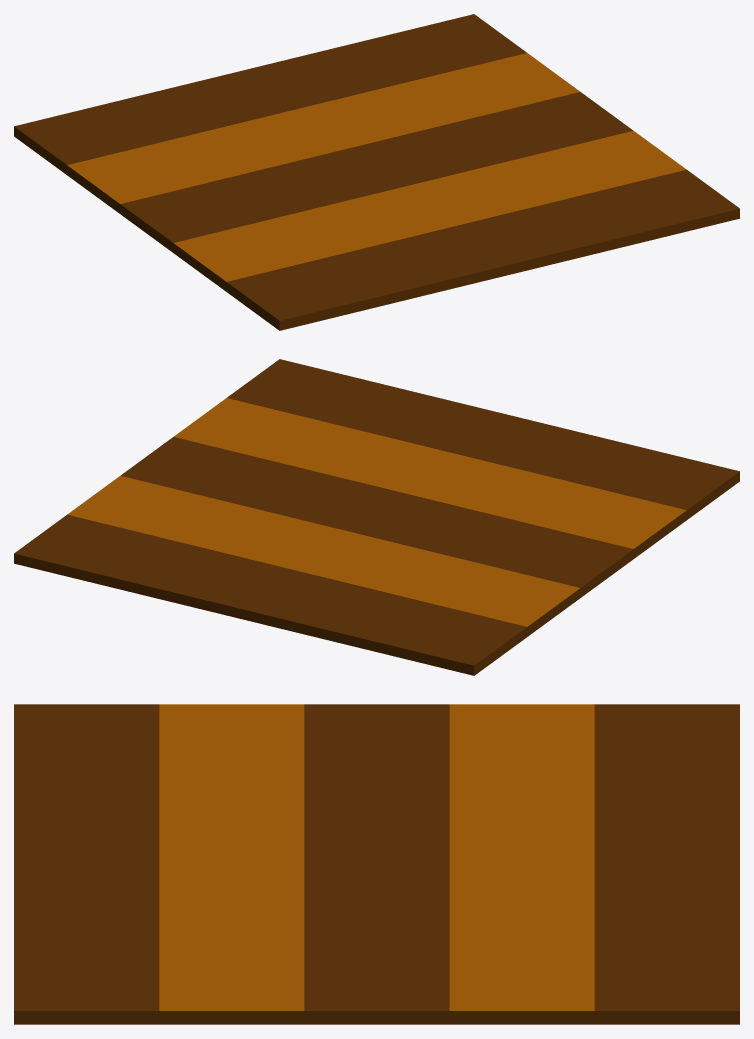
File: Suelo 1.fbx
3 views of the same model, one above another, from view 1: azimuth 30°, elevation 25°; view 2: azimuth 150°, elevation 25°; view 3: azimuth 270°, elevation 25° (orthographic). The views are drawn at different scales.
Parts seen in each view (by area): view 1: pCube4; view 2: pCube4; view 3: pCube4.
Boxes of the visible parts, box(x1,y1,x2,y2) form: pCube4: box(14, 14, 739, 330); pCube4: box(14, 359, 739, 675); pCube4: box(14, 704, 739, 1024).
Size of the model in its own units: 200 by 4.2 by 200.
